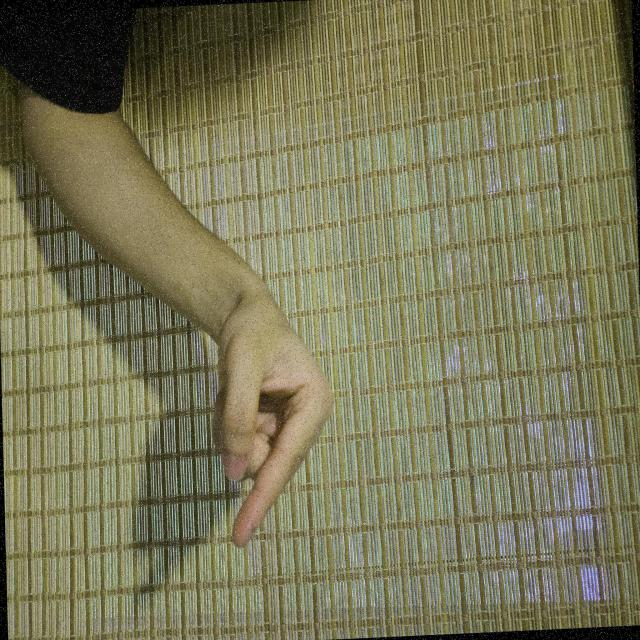Z: (327, 395, 584, 585)
